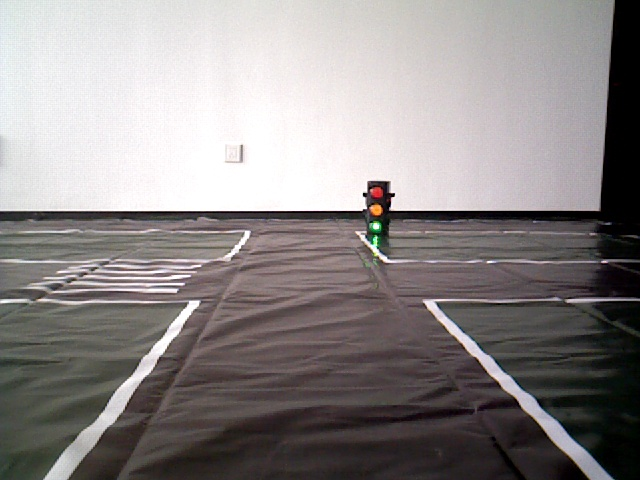green: (366, 182, 388, 234)
